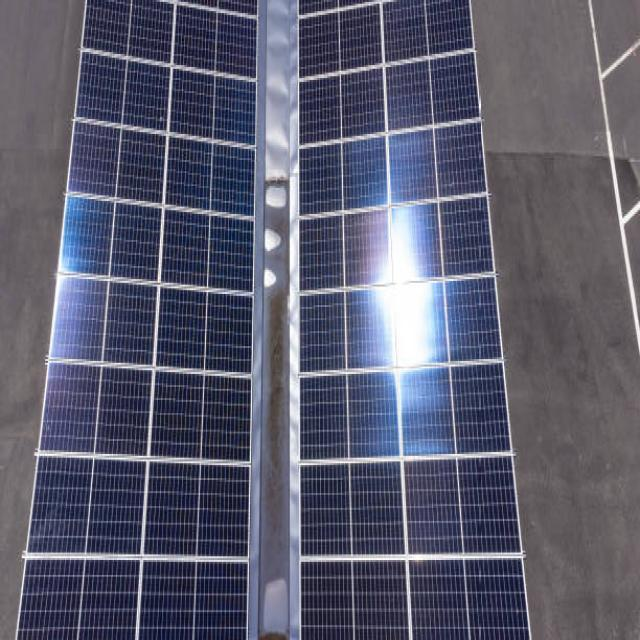no faulty: (294, 0, 531, 640)
